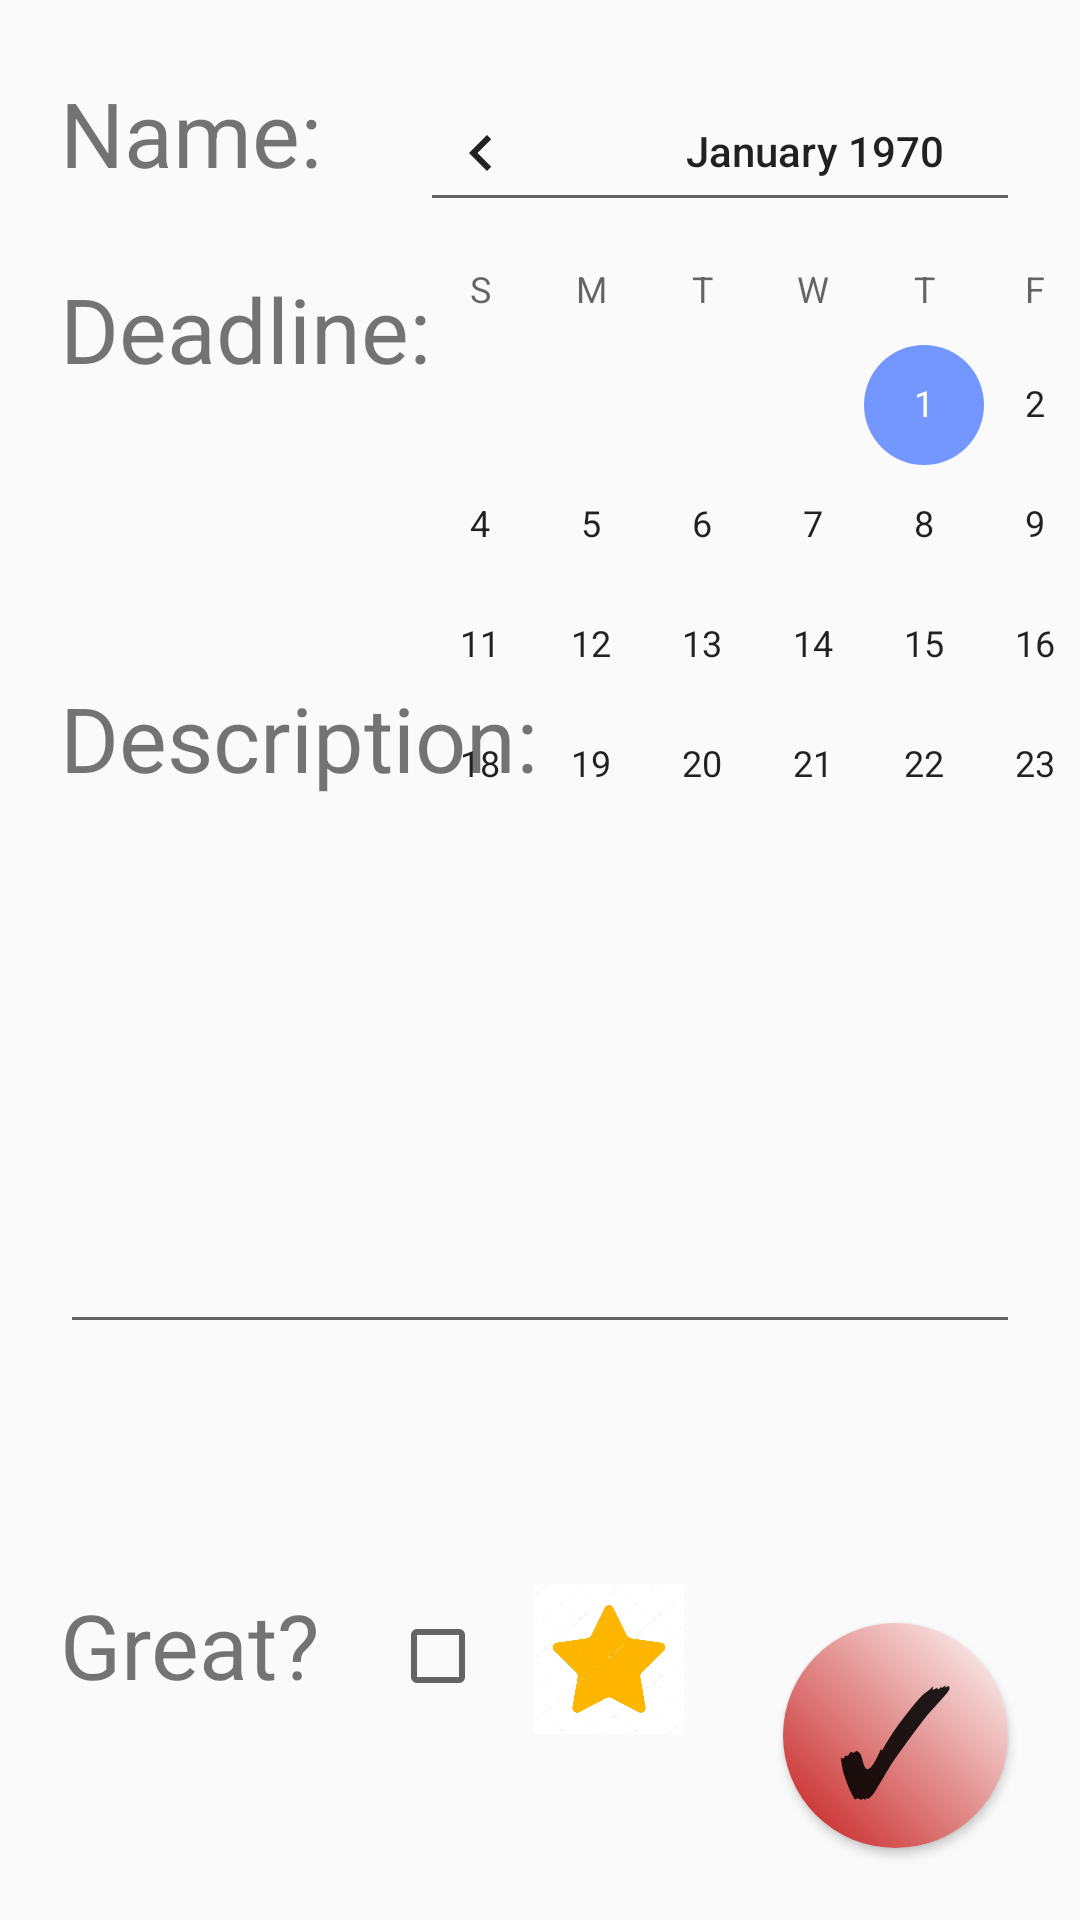

Screen size 1080 x 1920. Icon name, then its center in pixels as [x,y]:
starmark: [609,1659]
